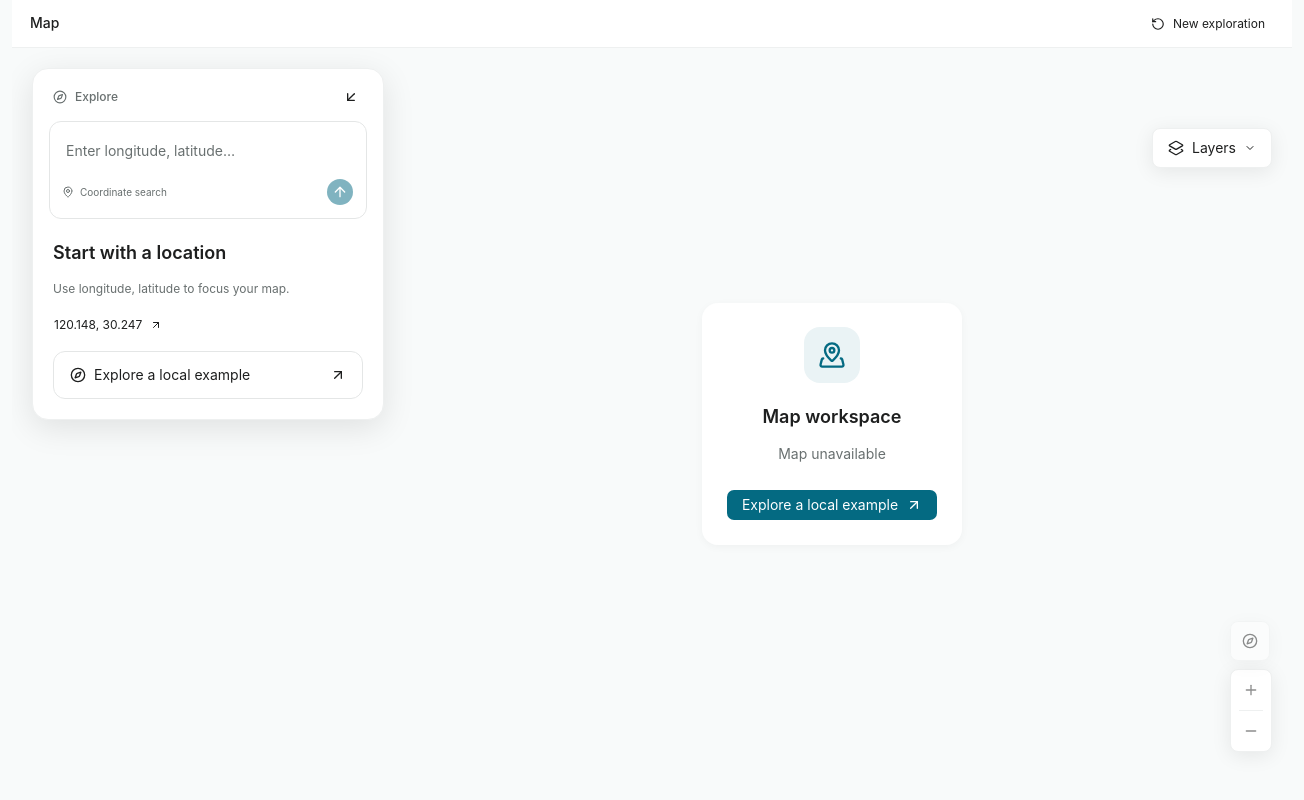
Test: filters sample places and clears empty searches
The image size is (1304, 800).
Click the button "Explore a local example" below "Start with a location" at point(208, 375), box x1=53 y1=351 x2=363 y2=399
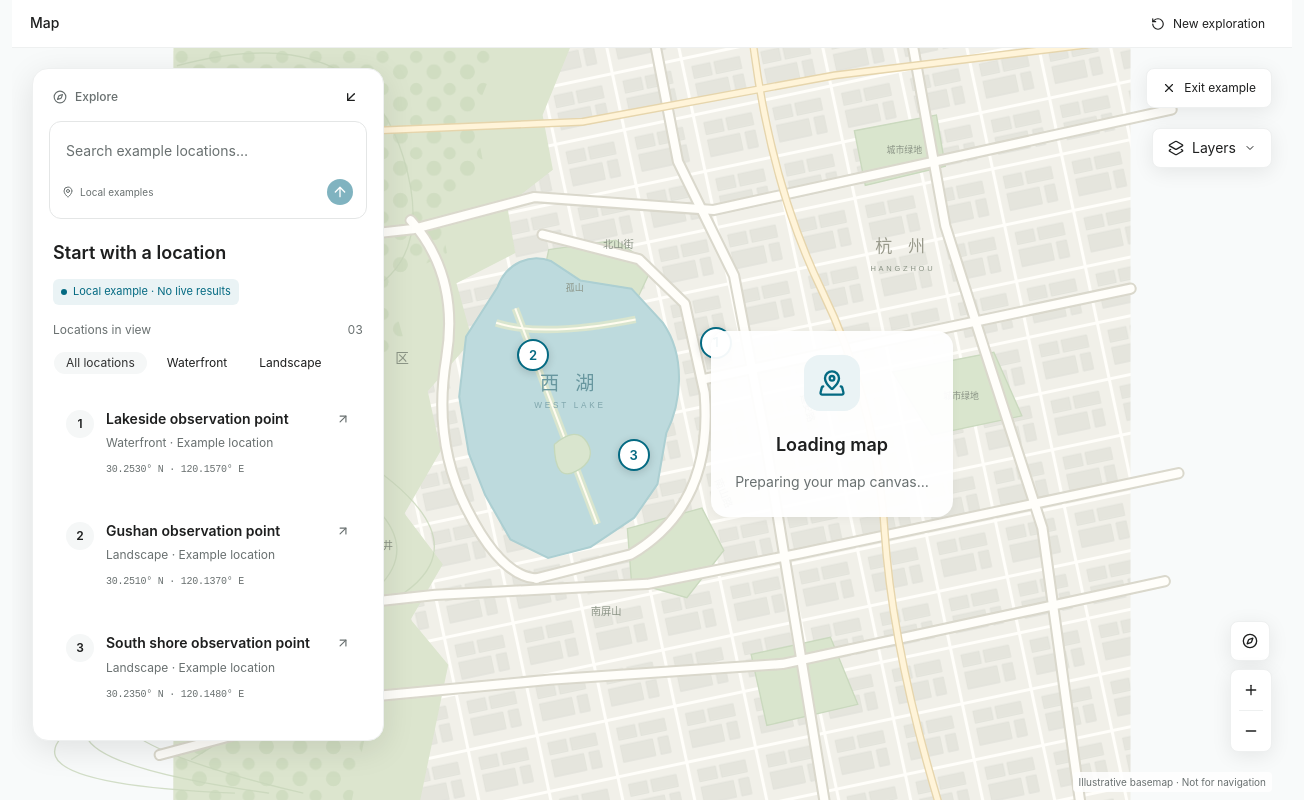
Click the button "Waterfront" at point(197, 363), box x1=154 y1=351 x2=240 y2=375
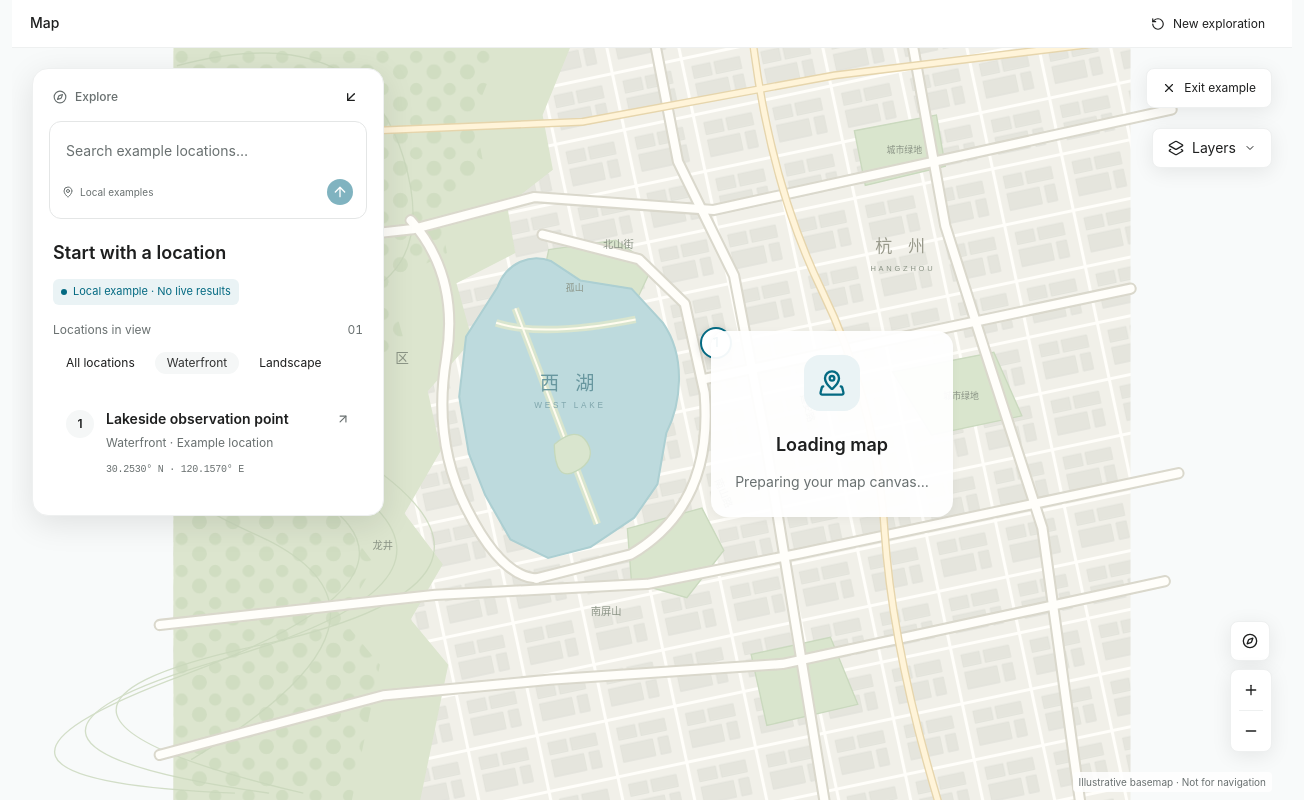
Result: the number of list items is 1 at x1=53 y1=391 x2=363 y2=495
Type "unmatched" into the field named "Search map" at point(208, 150), box x1=58 y1=130 x2=358 y2=170
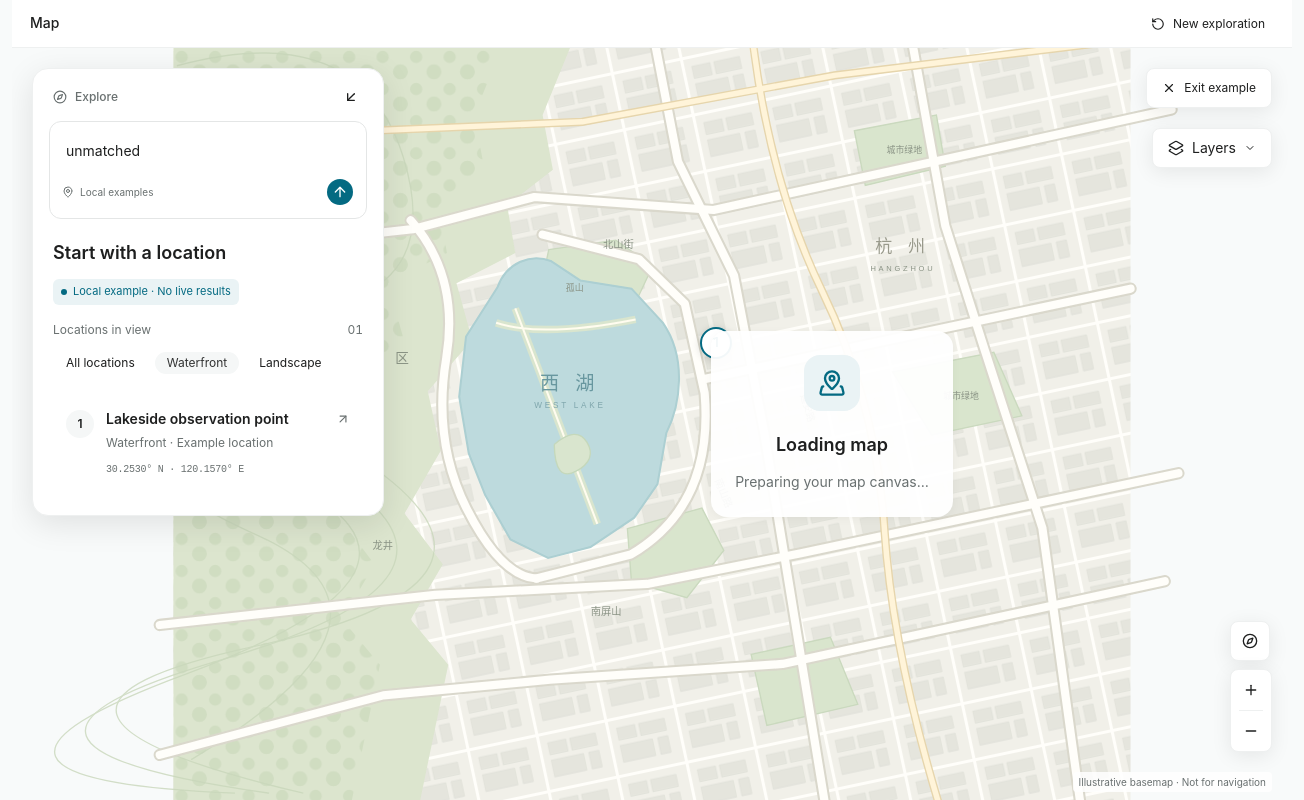
Click the button named "Search map" at point(340, 192), box x1=326 y1=178 x2=354 y2=206
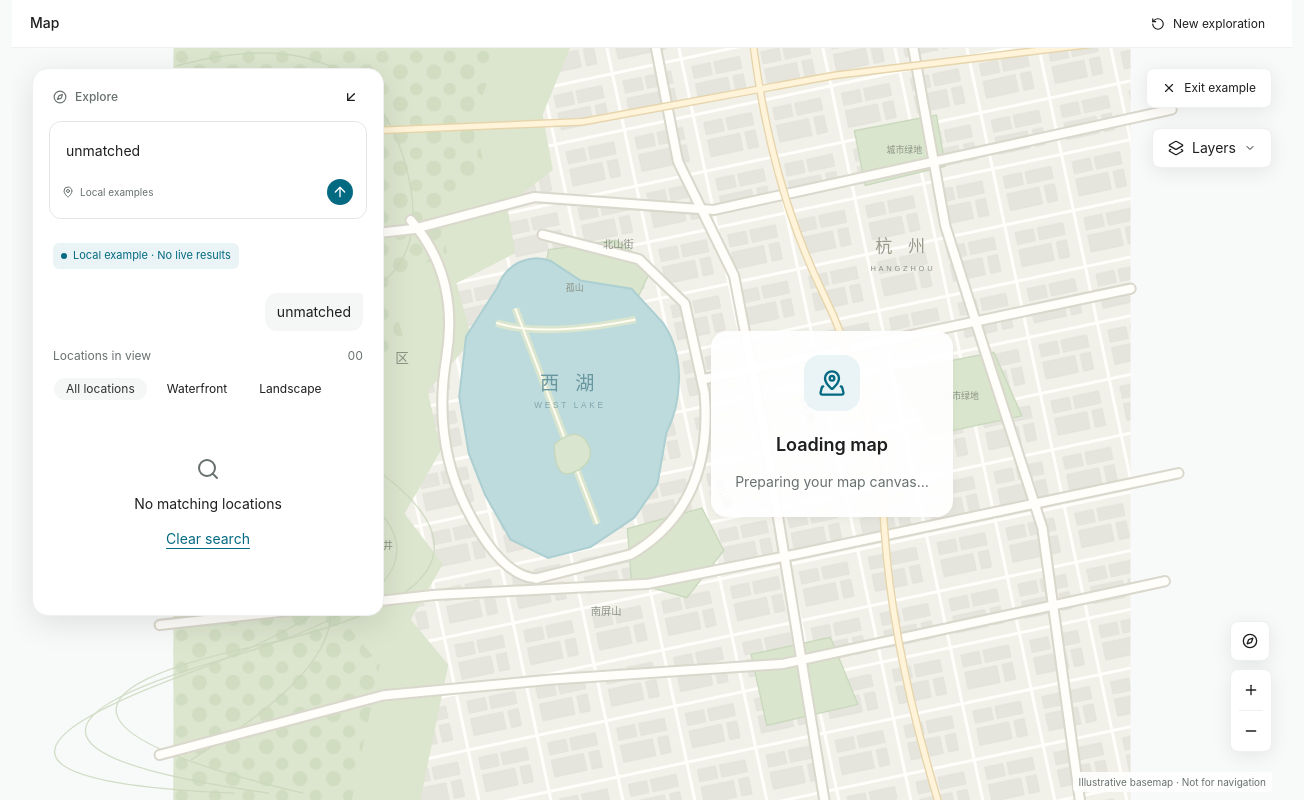
Result: the text "No matching locations" is shown at x1=134 y1=495 x2=282 y2=512
Click the button "Clear search" at point(208, 539), box x1=150 y1=523 x2=266 y2=555
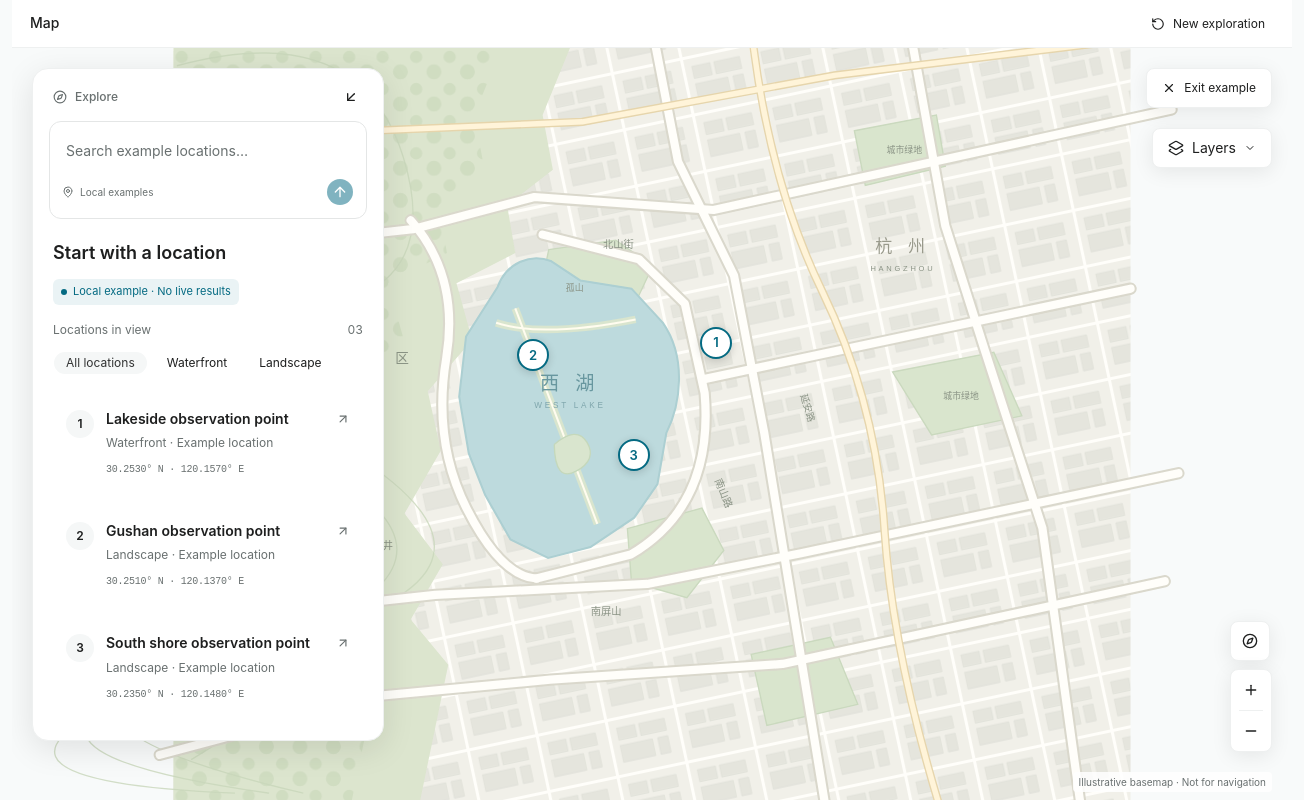
Result: the number of list items is 3 at x1=53 y1=391 x2=363 y2=495; x1=53 y1=503 x2=363 y2=607; x1=53 y1=615 x2=363 y2=720
